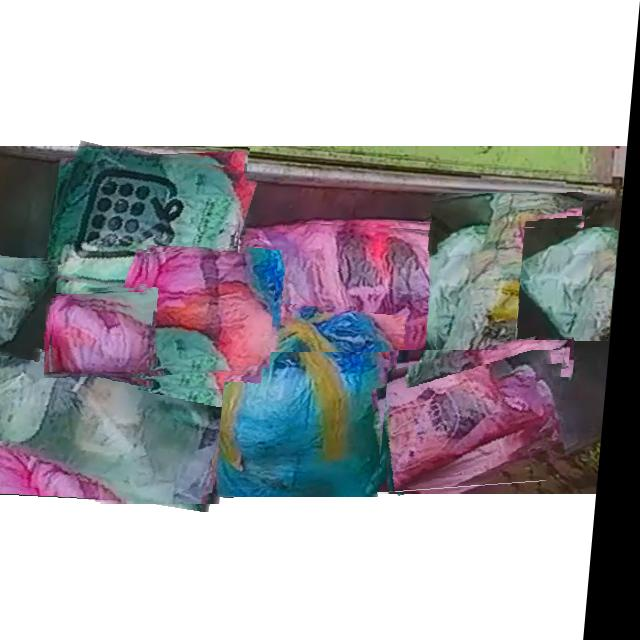general_trashbag: (0, 329, 236, 503), (51, 148, 246, 289), (443, 193, 586, 378), (528, 227, 618, 340), (0, 262, 63, 347)
other_trashbag: (250, 223, 497, 352), (227, 313, 394, 497), (394, 351, 565, 493), (150, 253, 279, 373), (54, 299, 158, 372)
